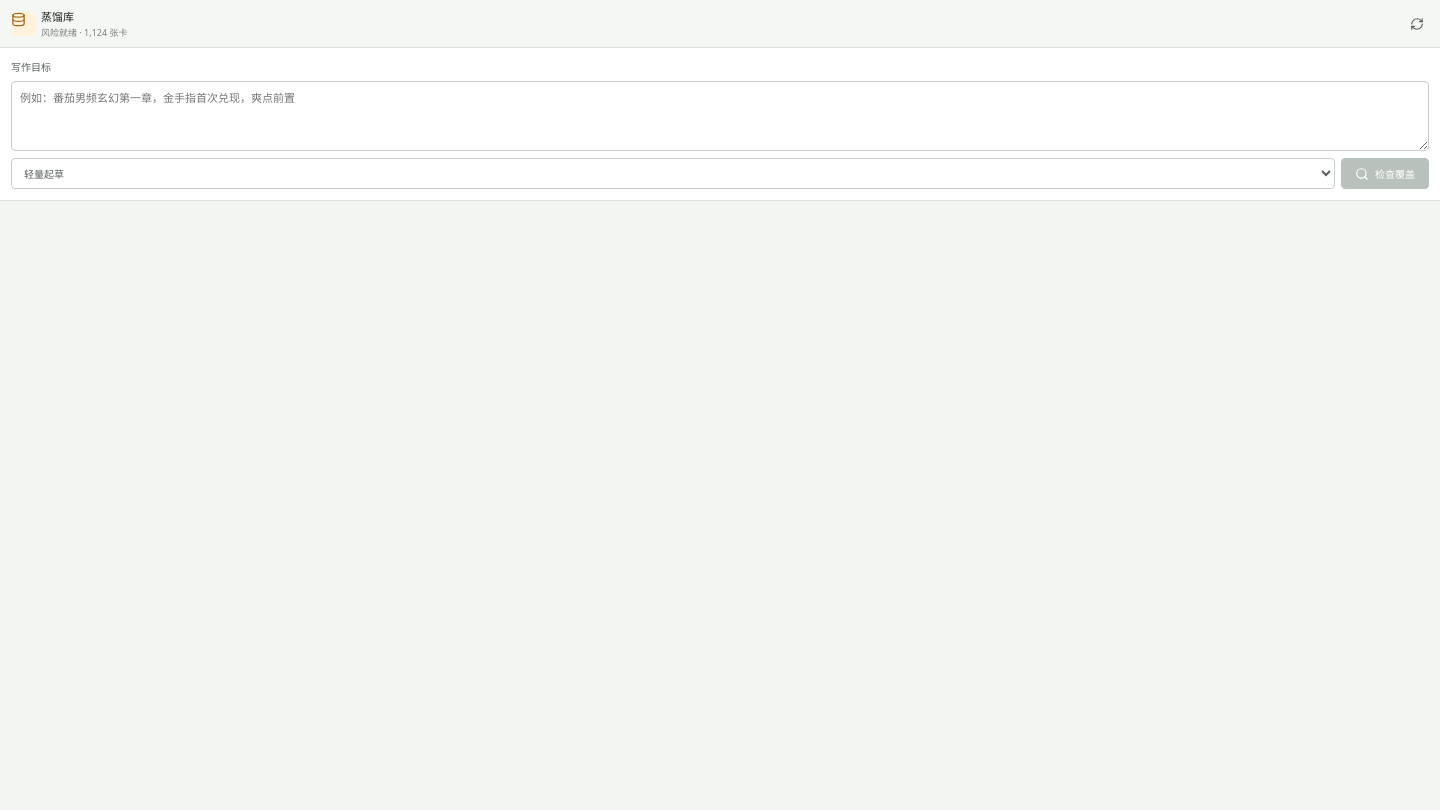
Scenario: DistillationCoveragePanel › renders source and formal coverage as a read-only risk preview
Expected: the text "风险就绪 · 1,124 张卡" is shown, left=41, top=26, right=127, bottom=39
In the text box labelled "写作目标": point(720, 116) left=11, top=81, right=1429, bottom=151, type "番茄 男频 玄幻 第一章 金手指激活 爽点"
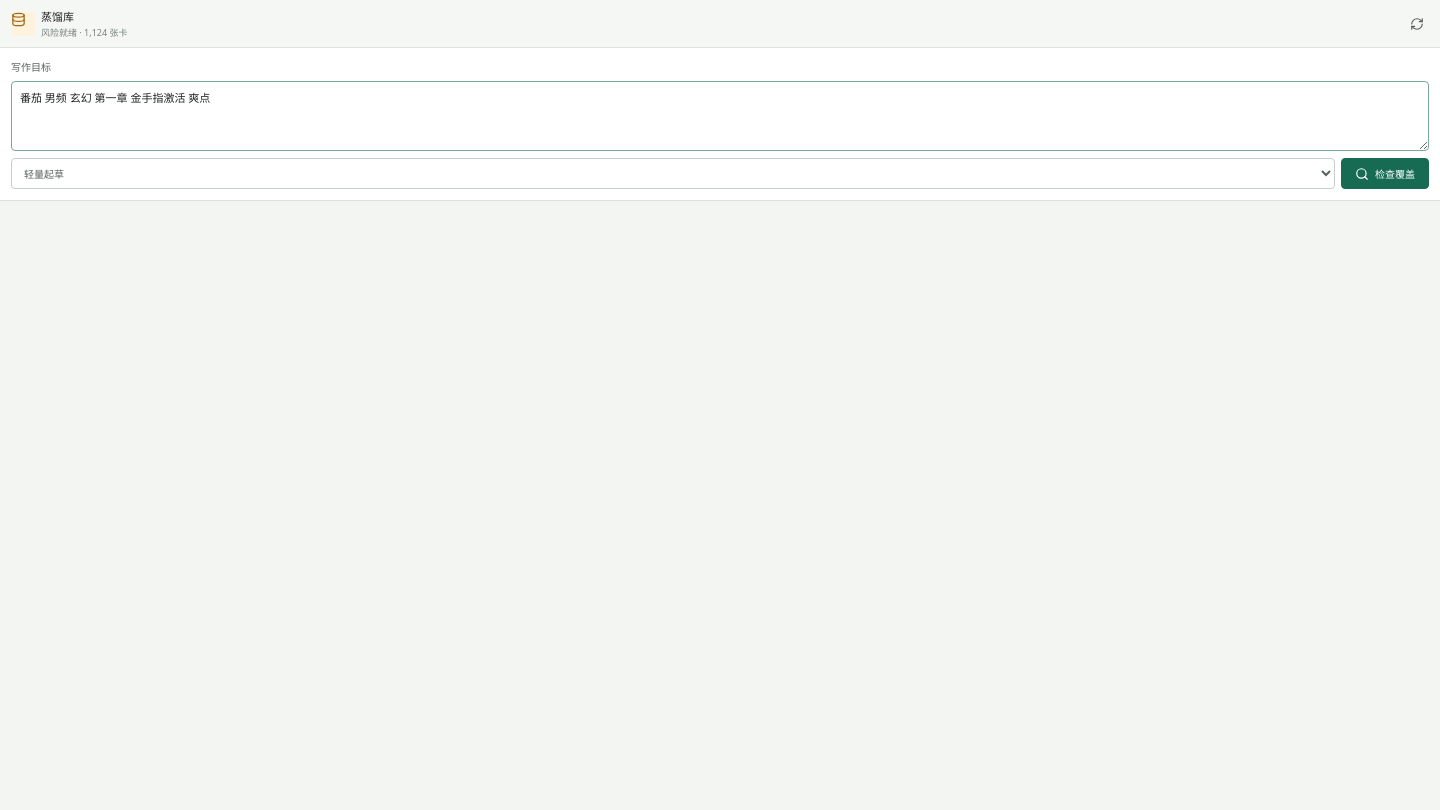
Click the button "检查覆盖": point(1385, 174) left=1341, top=158, right=1429, bottom=189
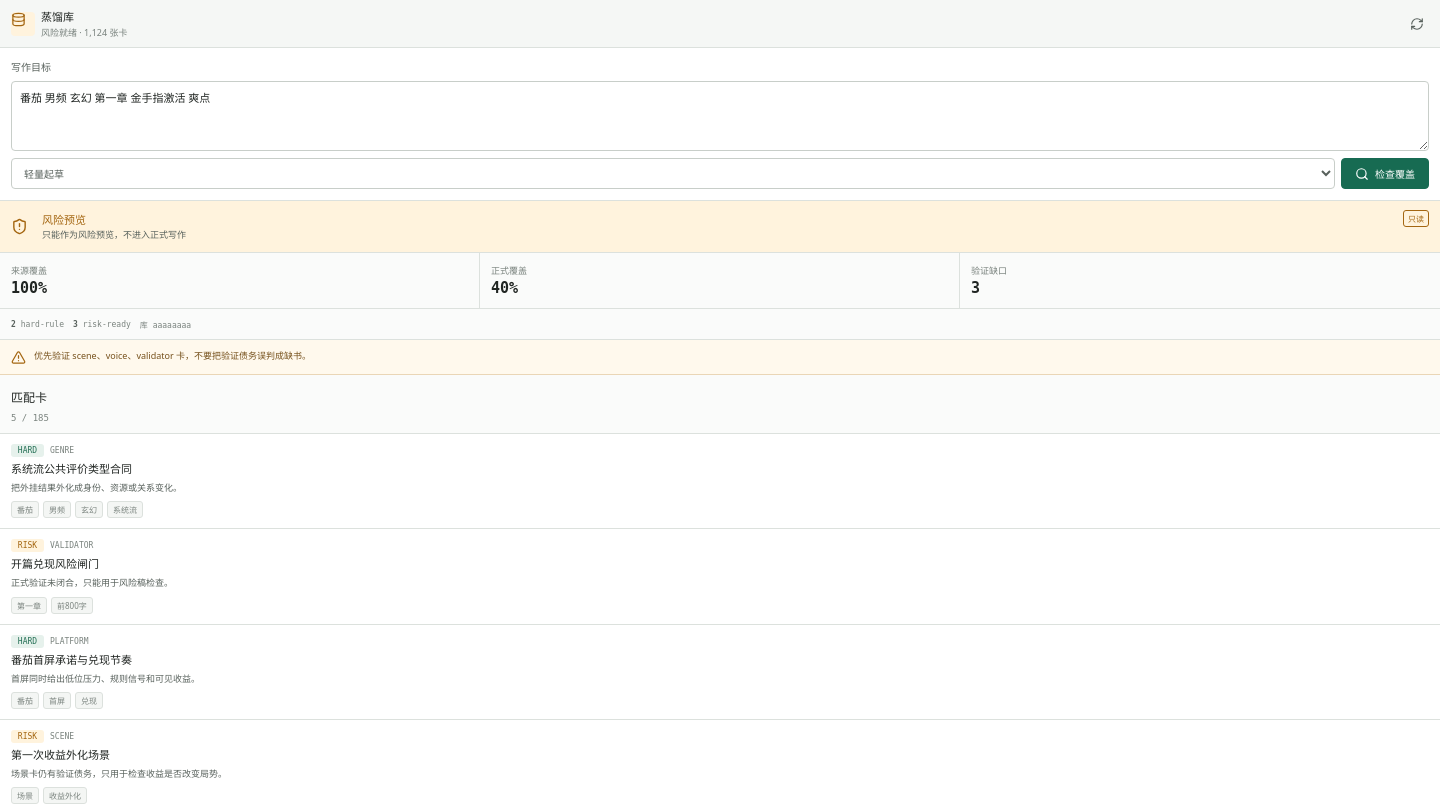
Expected: the message shows "只能作为风险预览，不进入正式写作", left=42, top=228, right=186, bottom=241
Expected: the text "100%" is shown, left=11, top=279, right=47, bottom=297
Expected: the text "40%" is shown, left=491, top=279, right=518, bottom=297
